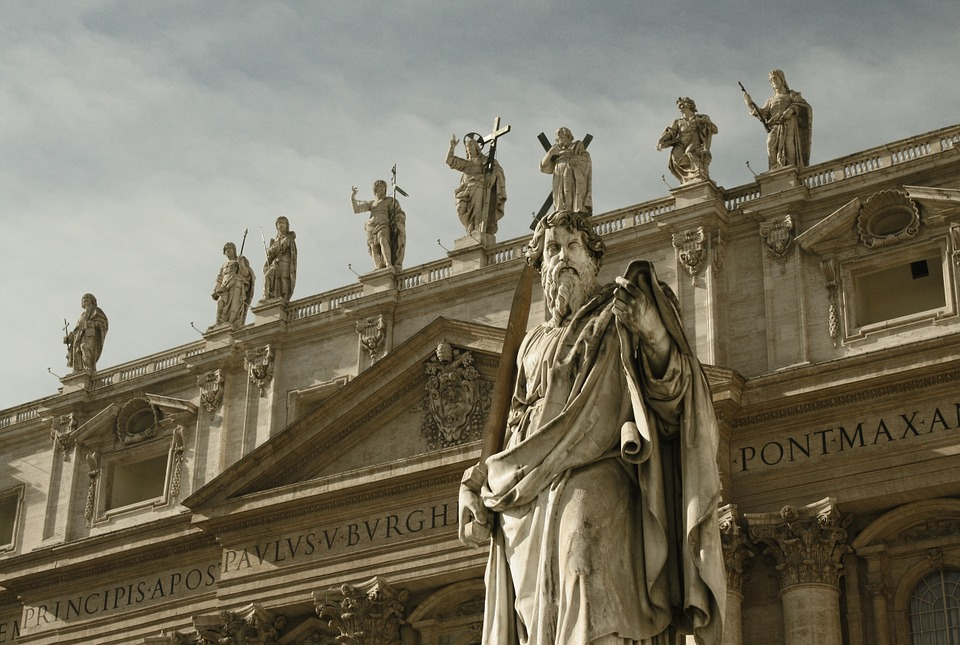person-like: (453, 209, 732, 645), (738, 65, 819, 171), (443, 124, 509, 239), (345, 172, 410, 271), (533, 123, 598, 217), (654, 92, 714, 181), (59, 288, 110, 373), (211, 239, 257, 326), (260, 213, 300, 301)
